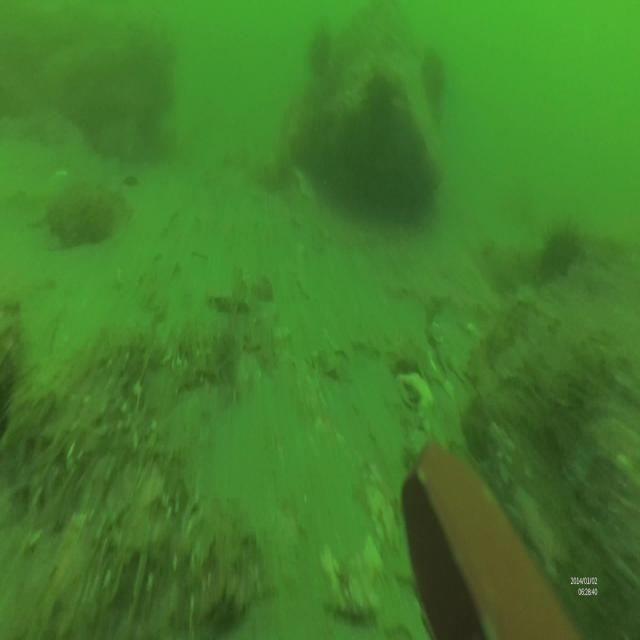echinus: (543, 220, 585, 279), (421, 49, 450, 123), (307, 24, 335, 77)
